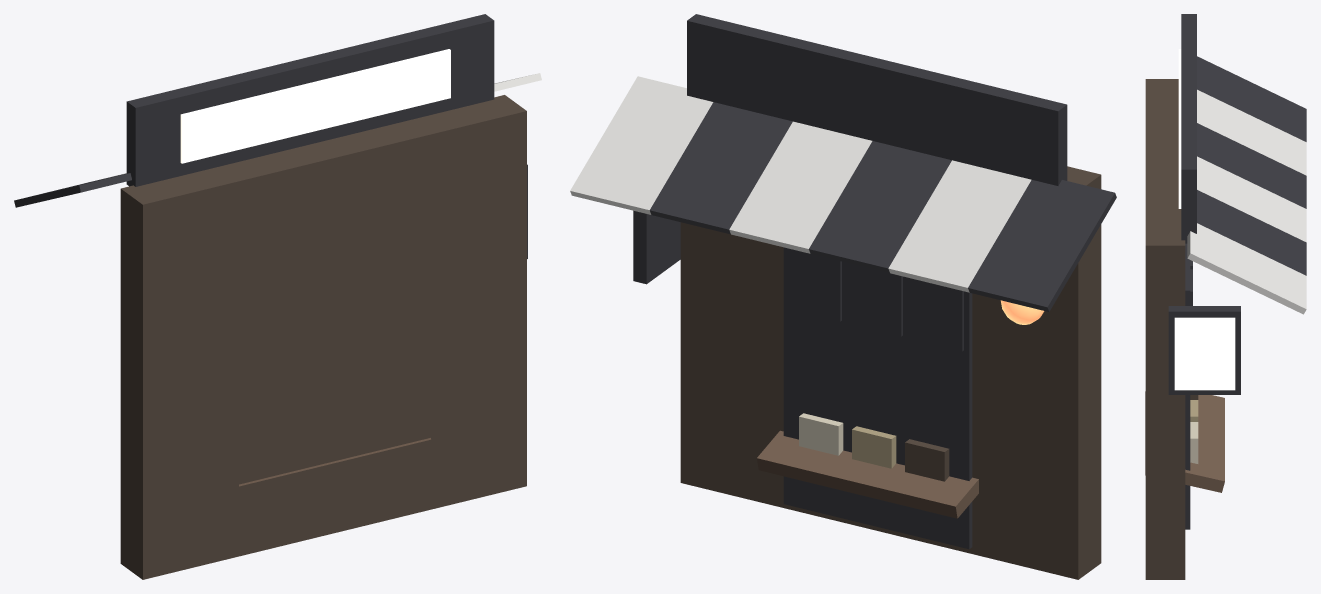
The model's file is prop_mise_soba.glb.
3 views of the same model, side by side, from view 1: azimuth 30°, elevation 25°; view 2: azimuth 150°, elevation 25°; view 3: azimuth 270°, elevation 25° (orthographic). The views are drawn at different scales.
Visible parts, largest first — view 1: mise_soba; view 2: mise_soba; view 3: mise_soba.
Boxes of the visible parts, bbox=[...] form: mise_soba: bbox=[14, 14, 541, 579]; mise_soba: bbox=[570, 14, 1116, 579]; mise_soba: bbox=[1145, 14, 1306, 579].
Bounding box in the file's own units: 3.6 × 3.39 × 1.23.
